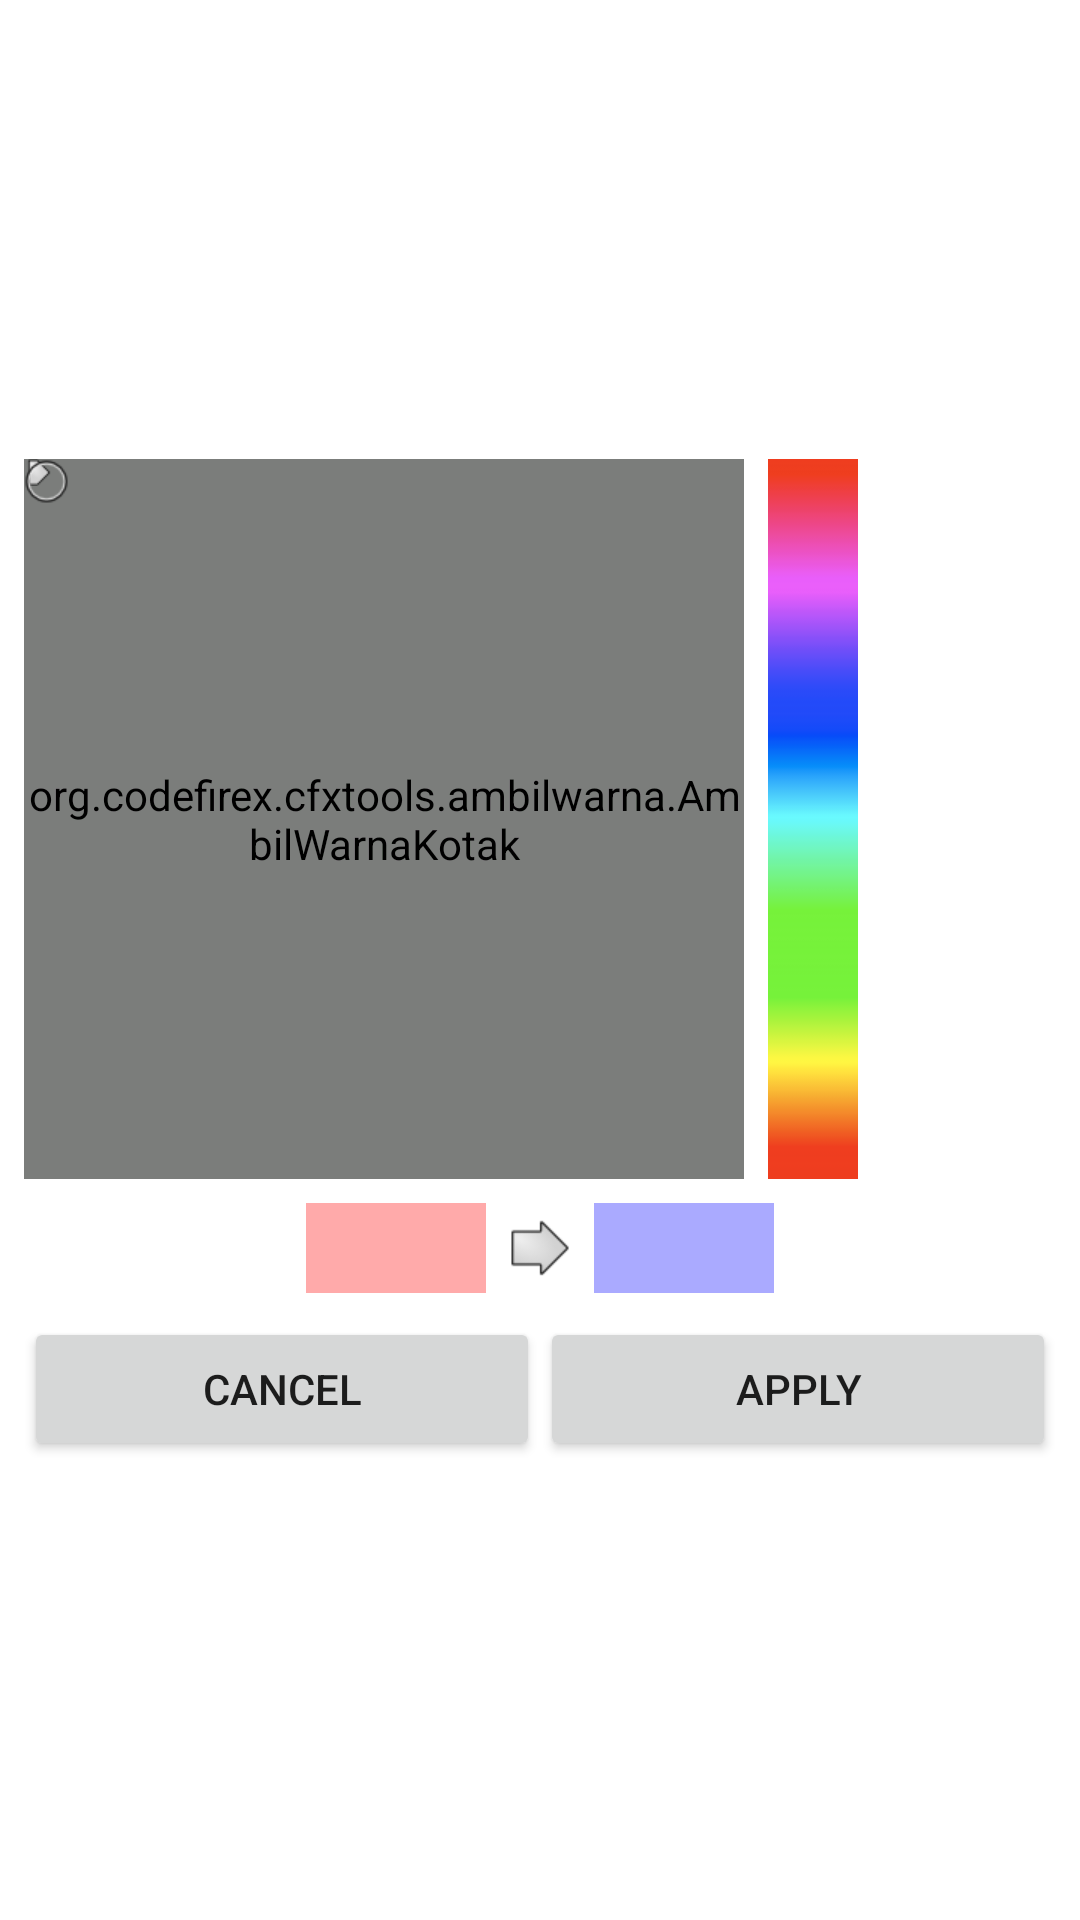

Point at icon controls on the screen. Image size 1080x1920, points as (x=x, y=y).
ambilwarna arrow right: (x=540, y=1248)
